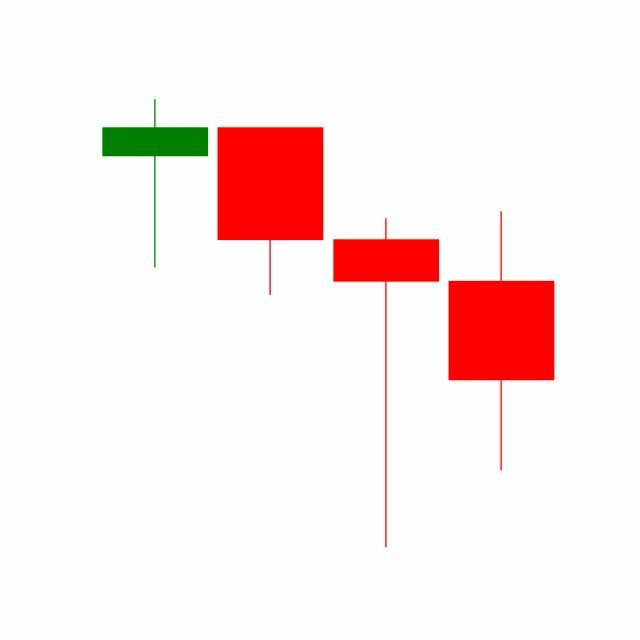Hammer: (329, 215, 445, 552)
